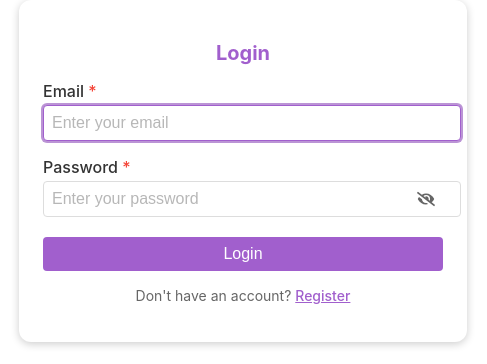
it: LoginForm Component › toggles password visibility when show/hide button is clicked
// Click toggle button to show password
Click the button named "show password".
click(426, 199)  # box [413, 186, 439, 212]
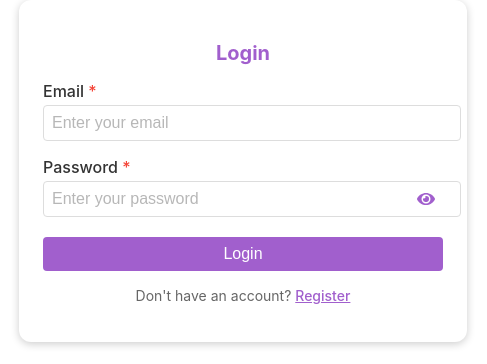
Check: the button named "hide password" is shown
// Click toggle button again to hide password
Click the button named "hide password".
click(426, 199)  # box [413, 186, 439, 212]
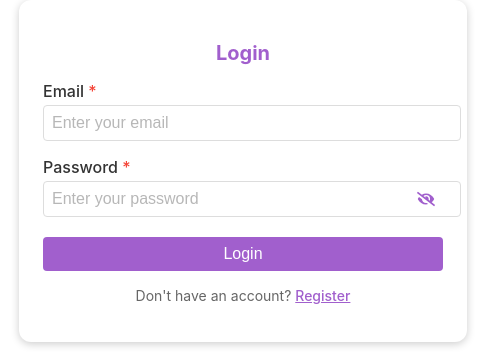
Check: the button named "show password" is shown, box [413, 186, 439, 212]
